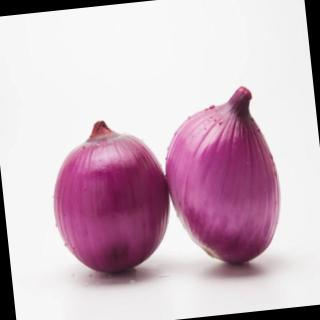Bawang Merah: (156, 80, 290, 276), (44, 112, 180, 283)
